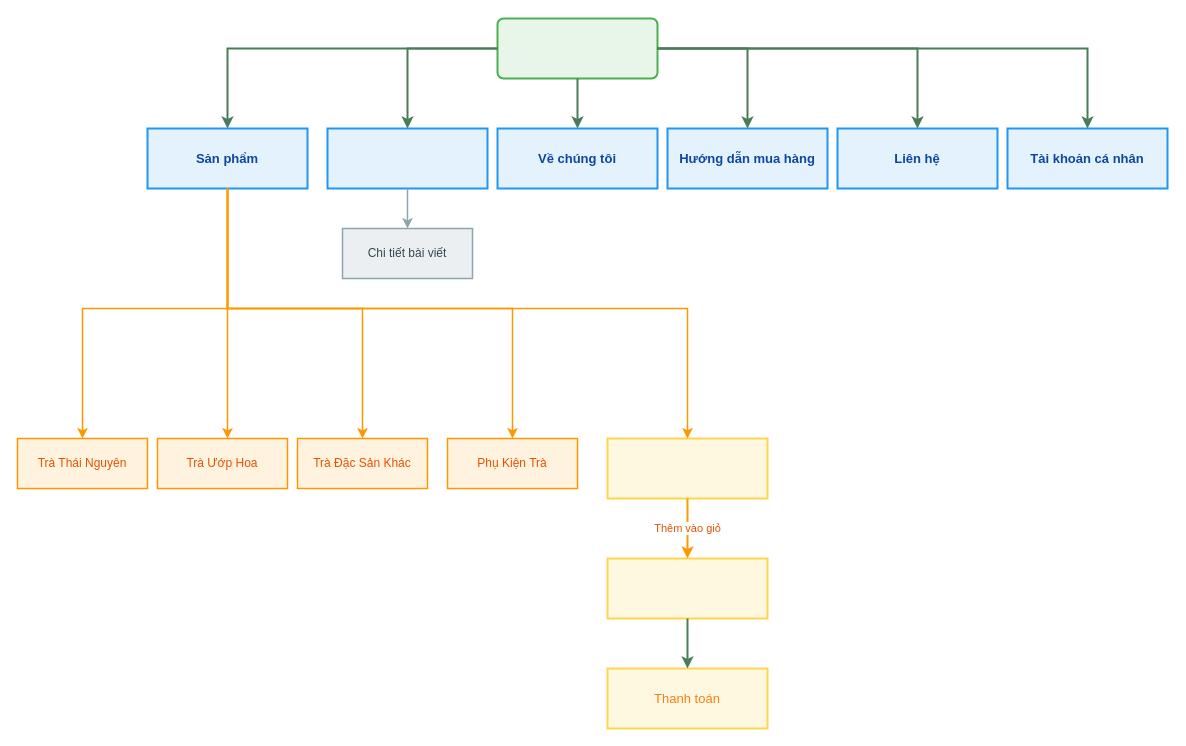
This 1186x746 diagram has some shape labels left out. Each missing label, with the centre of its shape:
Chi tiết sản phẩm: the point at 687,468
Giỏ hàng: the point at 687,588
Kiến thức: the point at 407,158
Trang chủ: the point at 577,48
